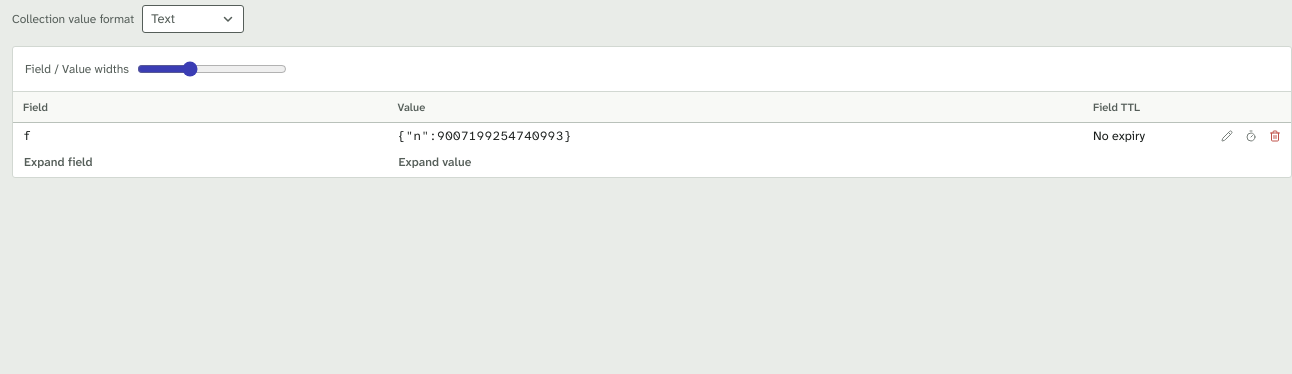
F3 in-place formats and widths › opens one full-width detail area and switches from field to value
What coordinates should you click on to do the following:
click the button "Expand field"
I would click on:
 (58, 162)
Its box is 15,150 -> 102,174.
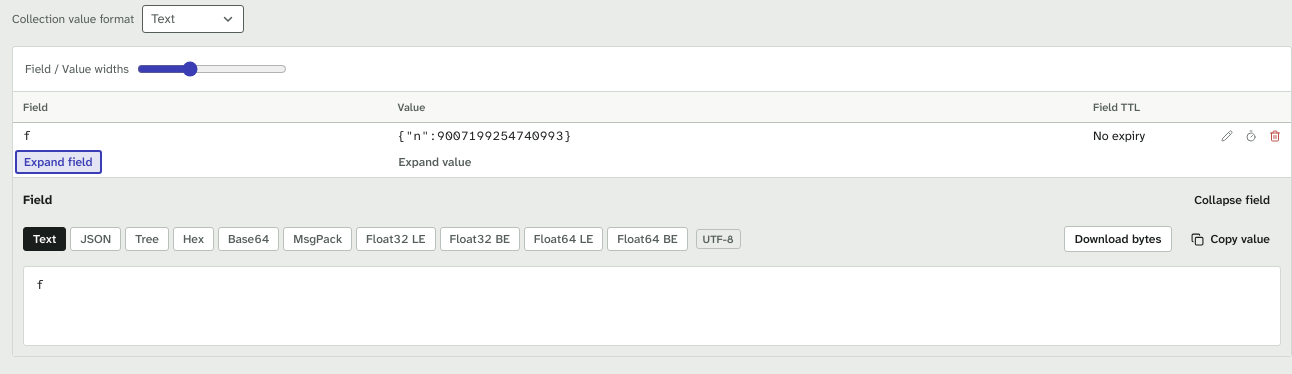
Expected: the number of elements with test id "value-format" is 1, 23,227 -> 688,251
Expected: the button "Collapse field" is shown, 1183,186 -> 1281,214
Expected: the text with test id "key-value" reads "f", 36,277 -> 44,293
What coordinates should you click on to do the following:
click the tab "Hex"
I would click on:
 (193, 239)
Its box is 173,227 -> 214,251.
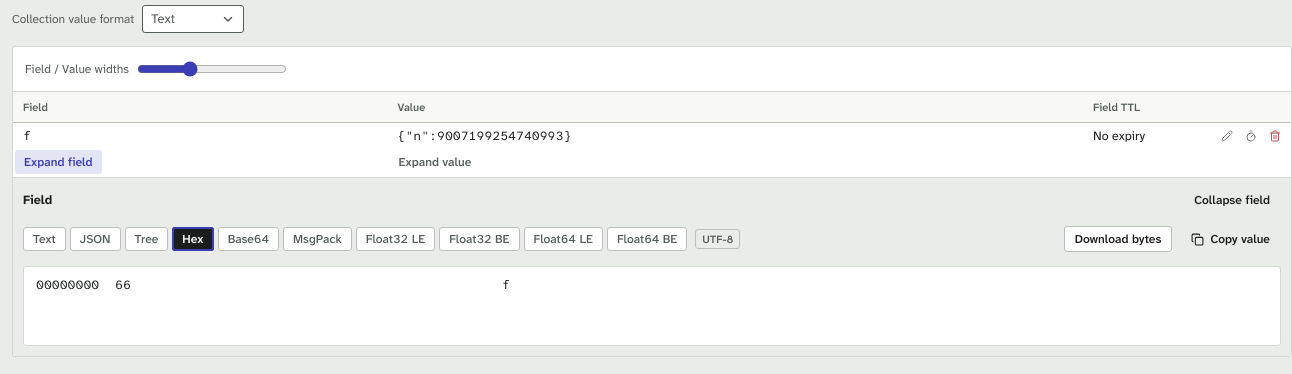
What coordinates should you click on to do the following:
click the button "Expand value"
I would click on:
 (435, 162)
Its box is 390,150 -> 480,174.
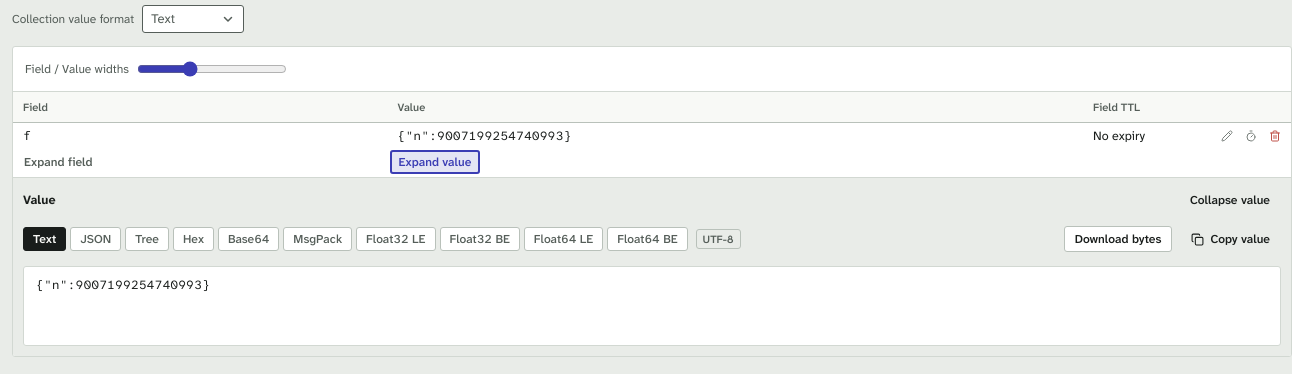
Expected: the number of elements with test id "value-format" is 1, 23,227 -> 688,251
Expected: the button "Expand field" is collapsed, 15,150 -> 102,174
Expected: the button "Expand value" is expanded, 390,150 -> 480,174
What coordinates should you click on to do the following:
click the button "Collapse value"
I would click on:
 (1230, 200)
Its box is 1179,186 -> 1281,214.
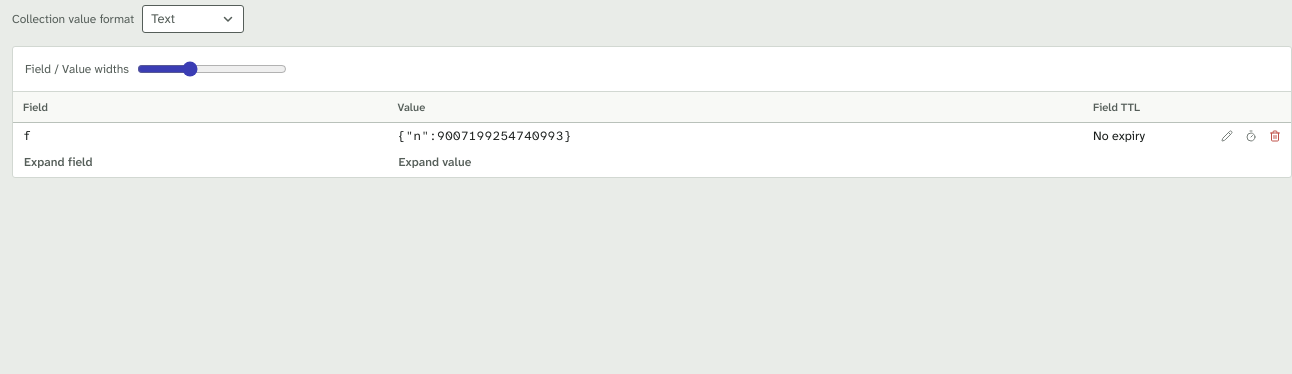
Expected: the element with test id "value-format" is gone
